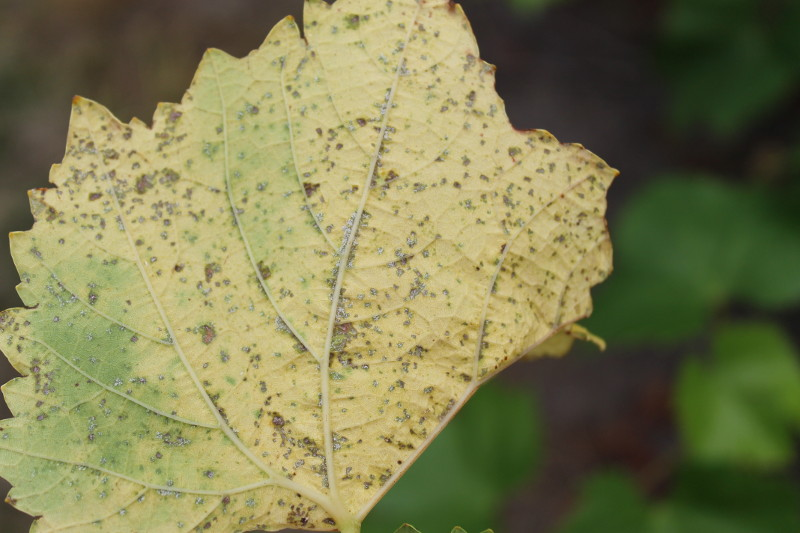downy: (73, 103, 357, 504), (415, 108, 502, 366), (364, 101, 406, 476), (211, 52, 482, 106), (510, 147, 578, 346), (11, 235, 58, 508)
